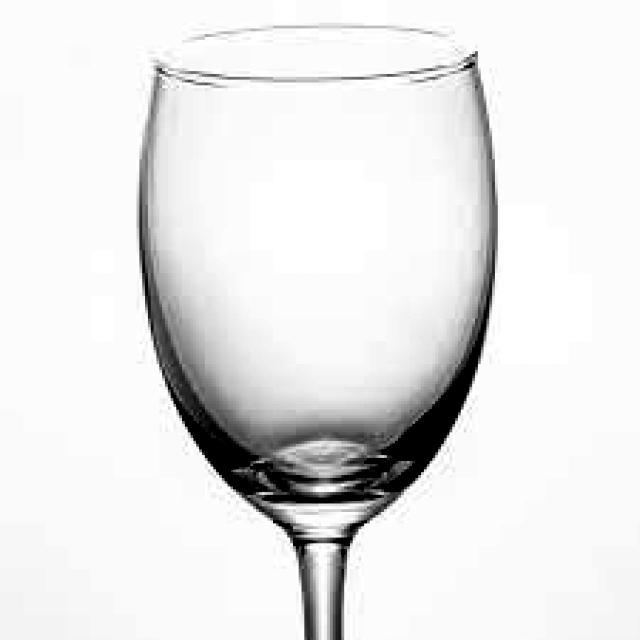Glass: (134, 21, 500, 640)
